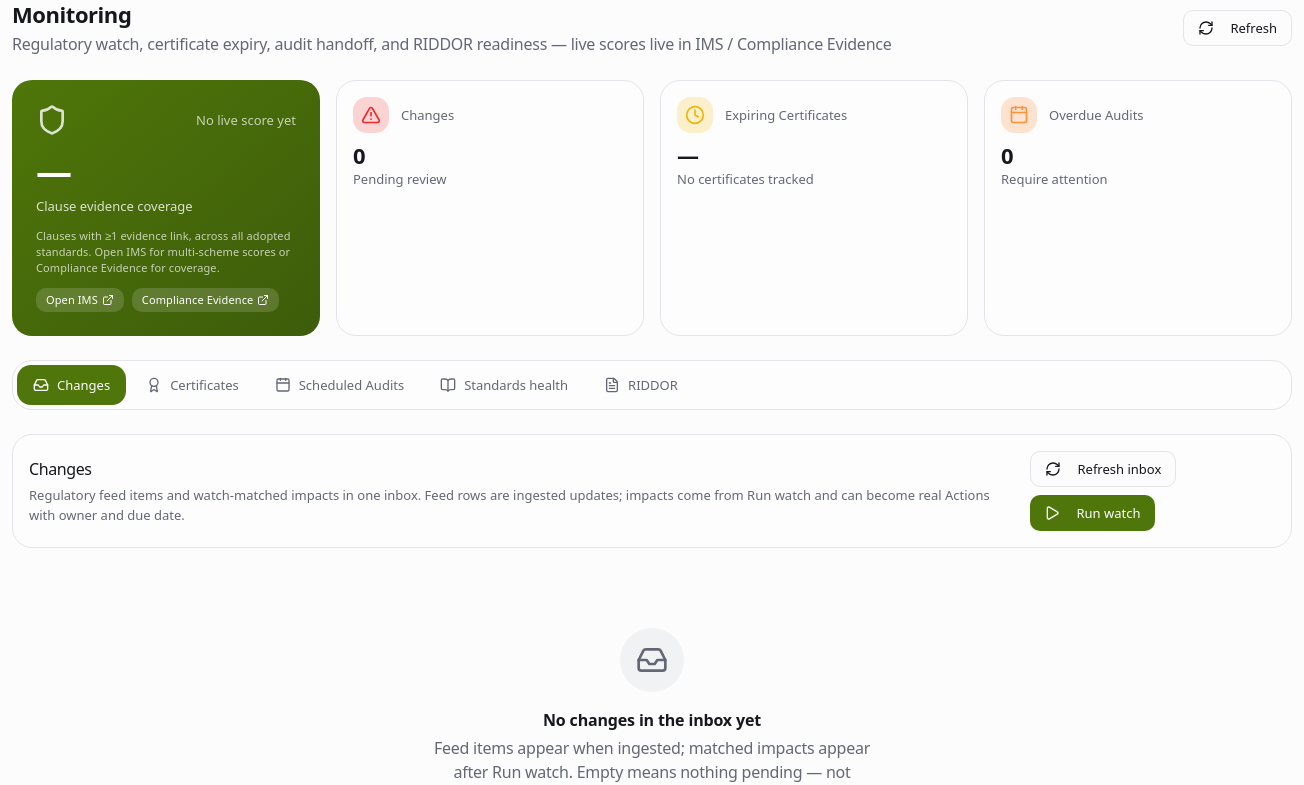
ComplianceAutomation standards digests › does not fetch digests until Standards health tab is opened
Expected: the heading "Monitoring" is shown, left=12, top=0, right=131, bottom=29
Step 1. Click the button "Standards health" → (504,385), box left=424, top=365, right=584, bottom=405
(page scrolled)
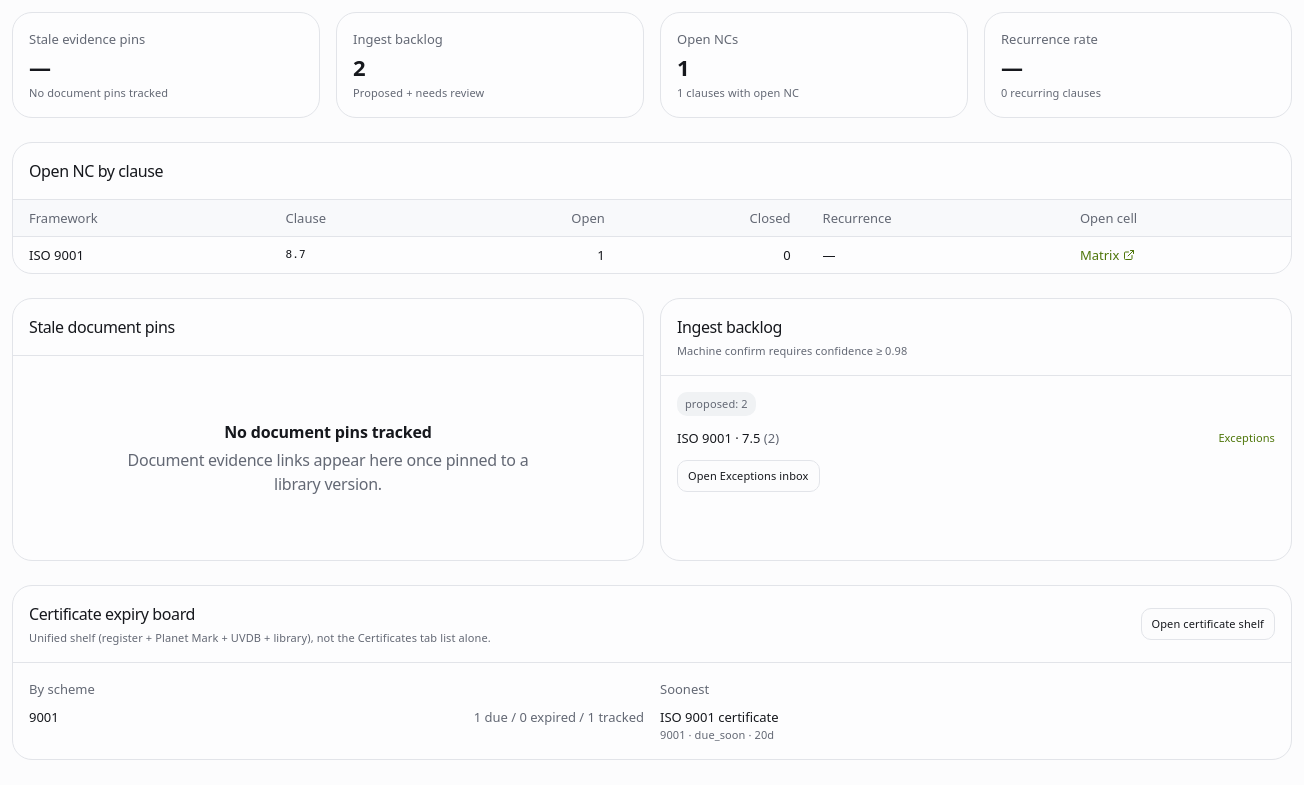
Result: the element with test id "monitoring-digest-stale-tile" shows "—" at left=29, top=52, right=51, bottom=82
Result: the element with test id "monitoring-digest-recurrence-tile" shows "—" at left=1001, top=52, right=1023, bottom=82
Result: the element with test id "monitoring-digest-nc-table" shows "8.7" at left=286, top=248, right=306, bottom=261
